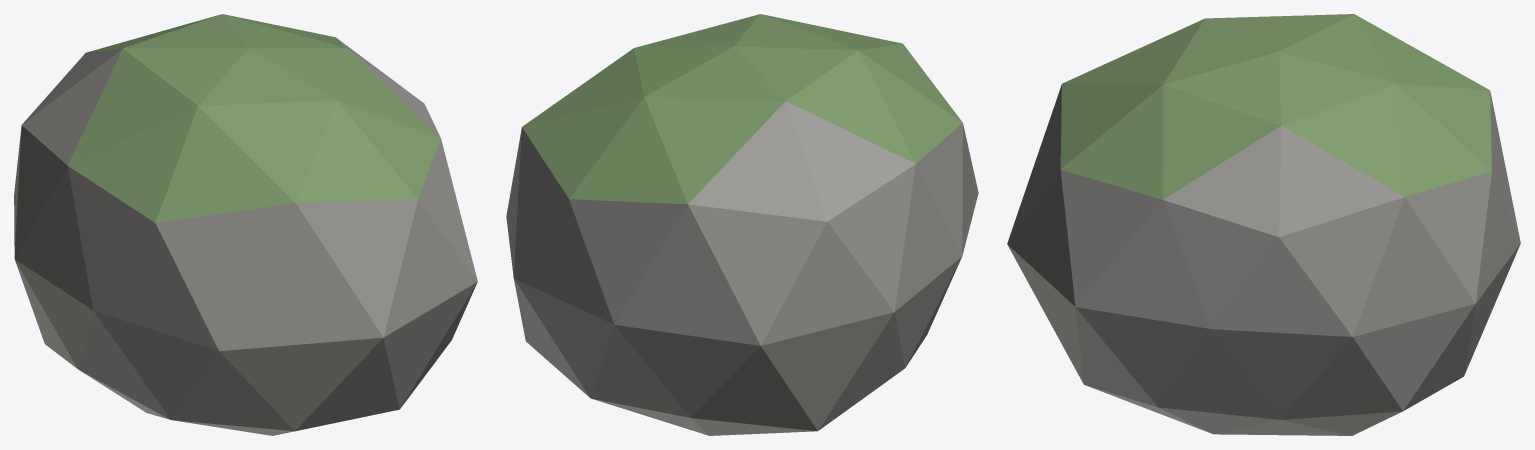
The model's file is SM_Boulder_B.fbx.
3 renders of one model, left to right at view 1: azimuth 30°, elevation 25°; view 2: azimuth 150°, elevation 25°; view 3: azimuth 270°, elevation 25°, orthographic.
Visible parts, largest first — view 1: SM_Boulder_B; view 2: SM_Boulder_B; view 3: SM_Boulder_B.
Part boxes in pixels (left/top/right/bottom): SM_Boulder_B: left=14, top=14, right=477, bottom=435; SM_Boulder_B: left=506, top=14, right=978, bottom=435; SM_Boulder_B: left=1007, top=14, right=1520, bottom=435.
Bounding box in the file's own units: 0.9201 × 0.7714 × 1.05.
